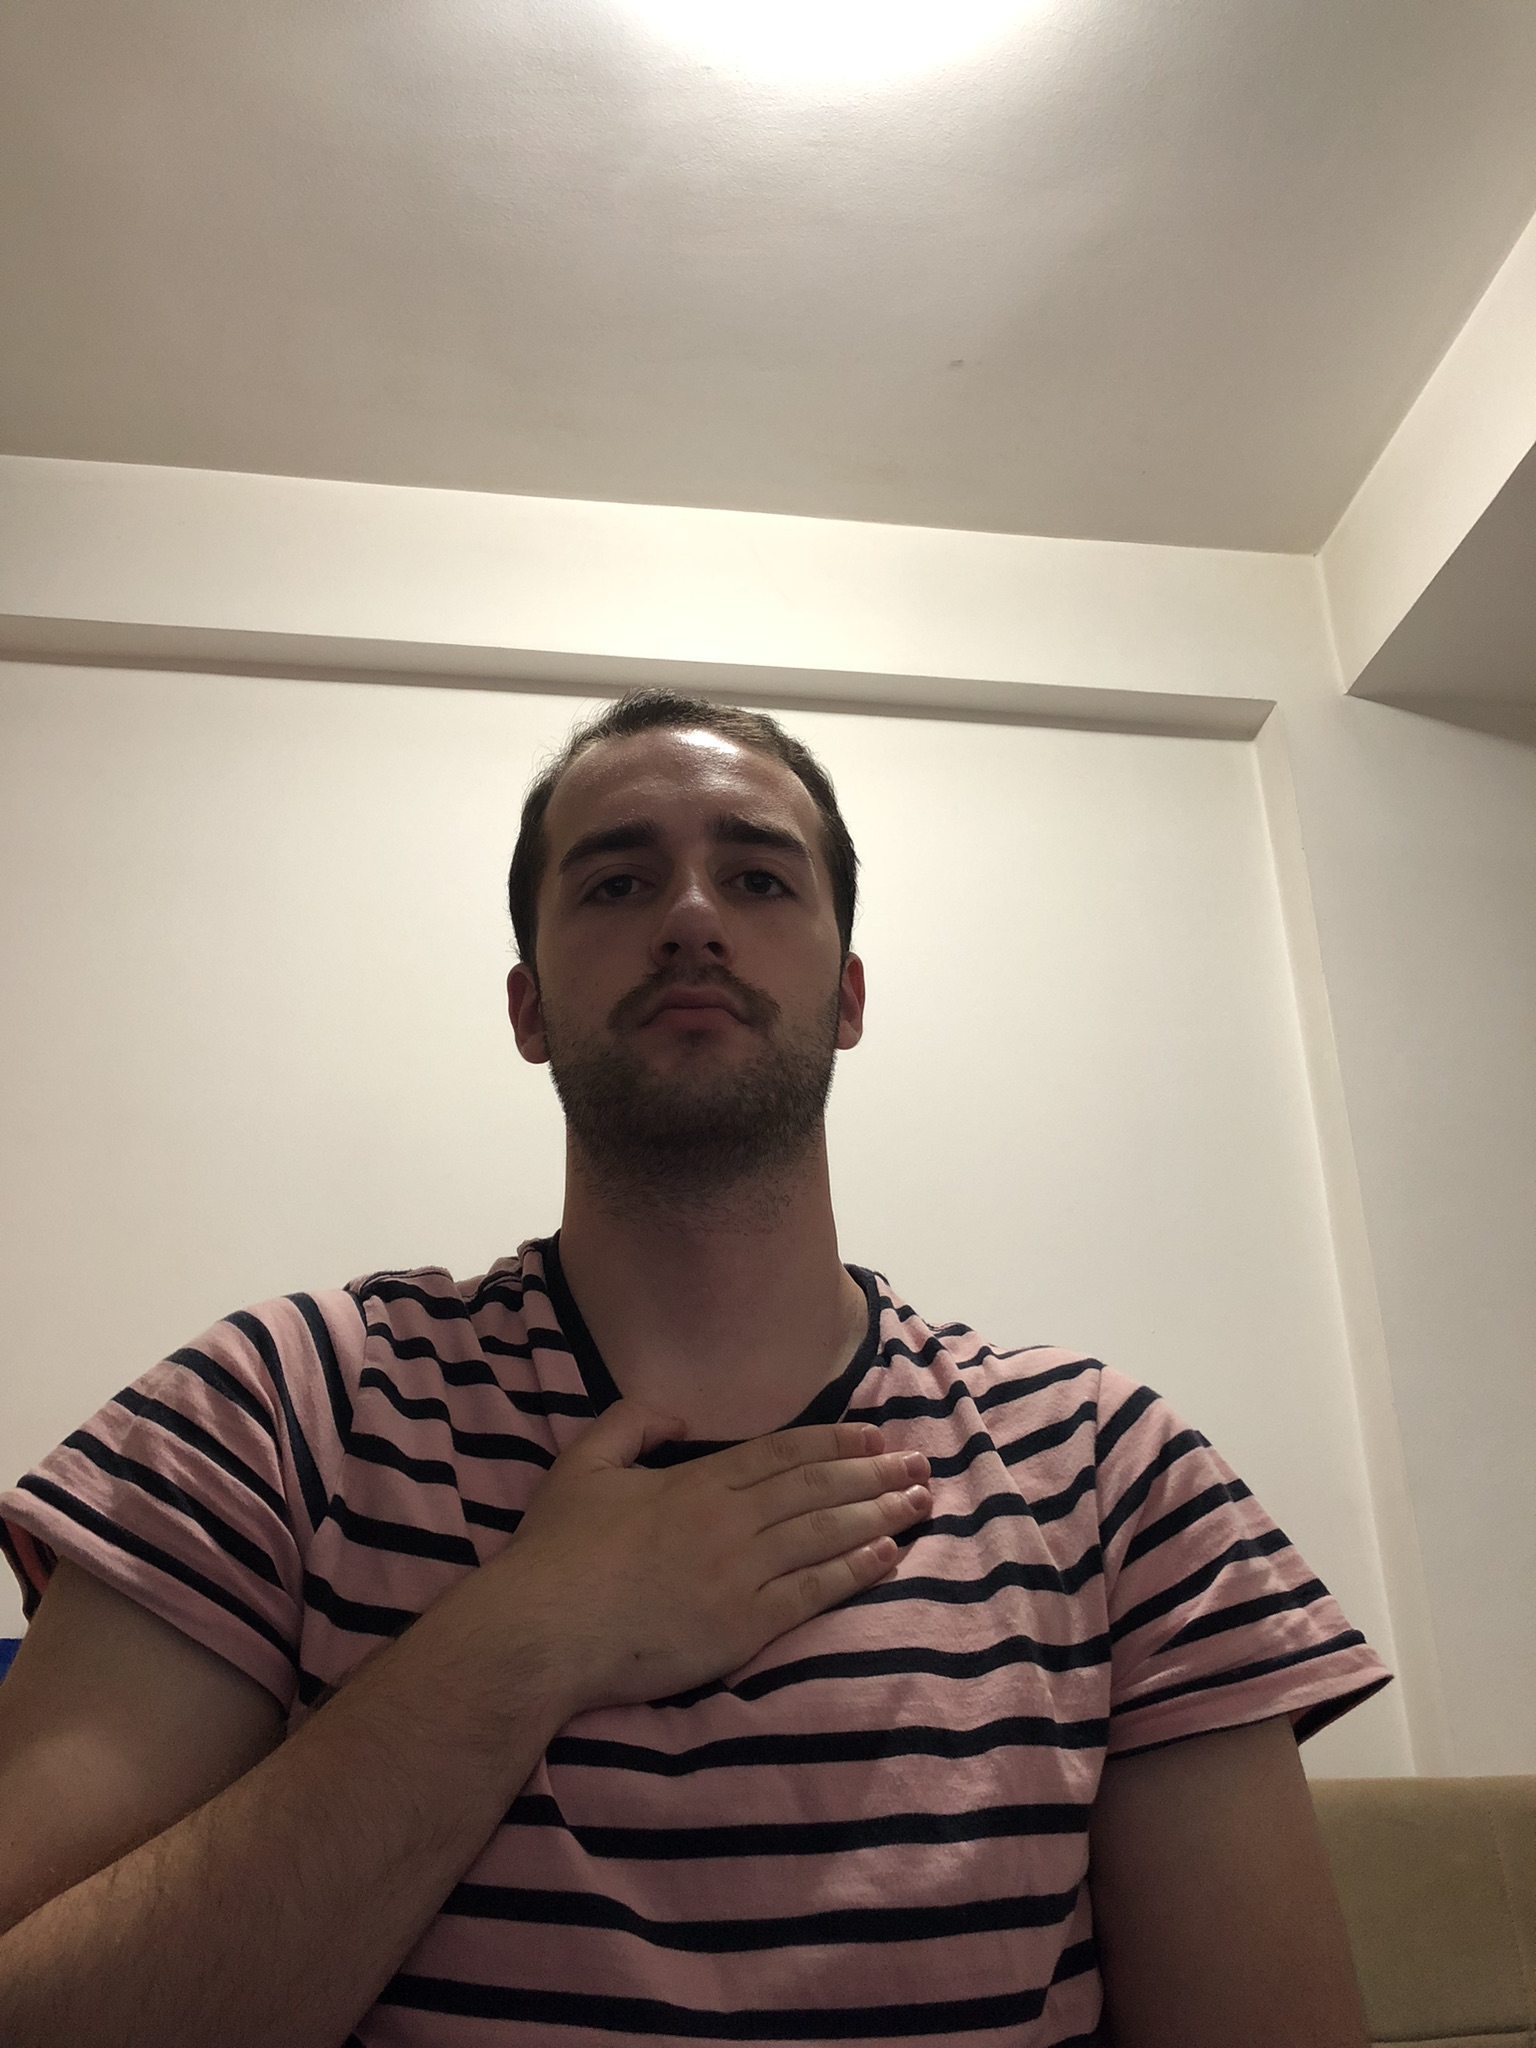Please: (5, 1392, 939, 2048)
